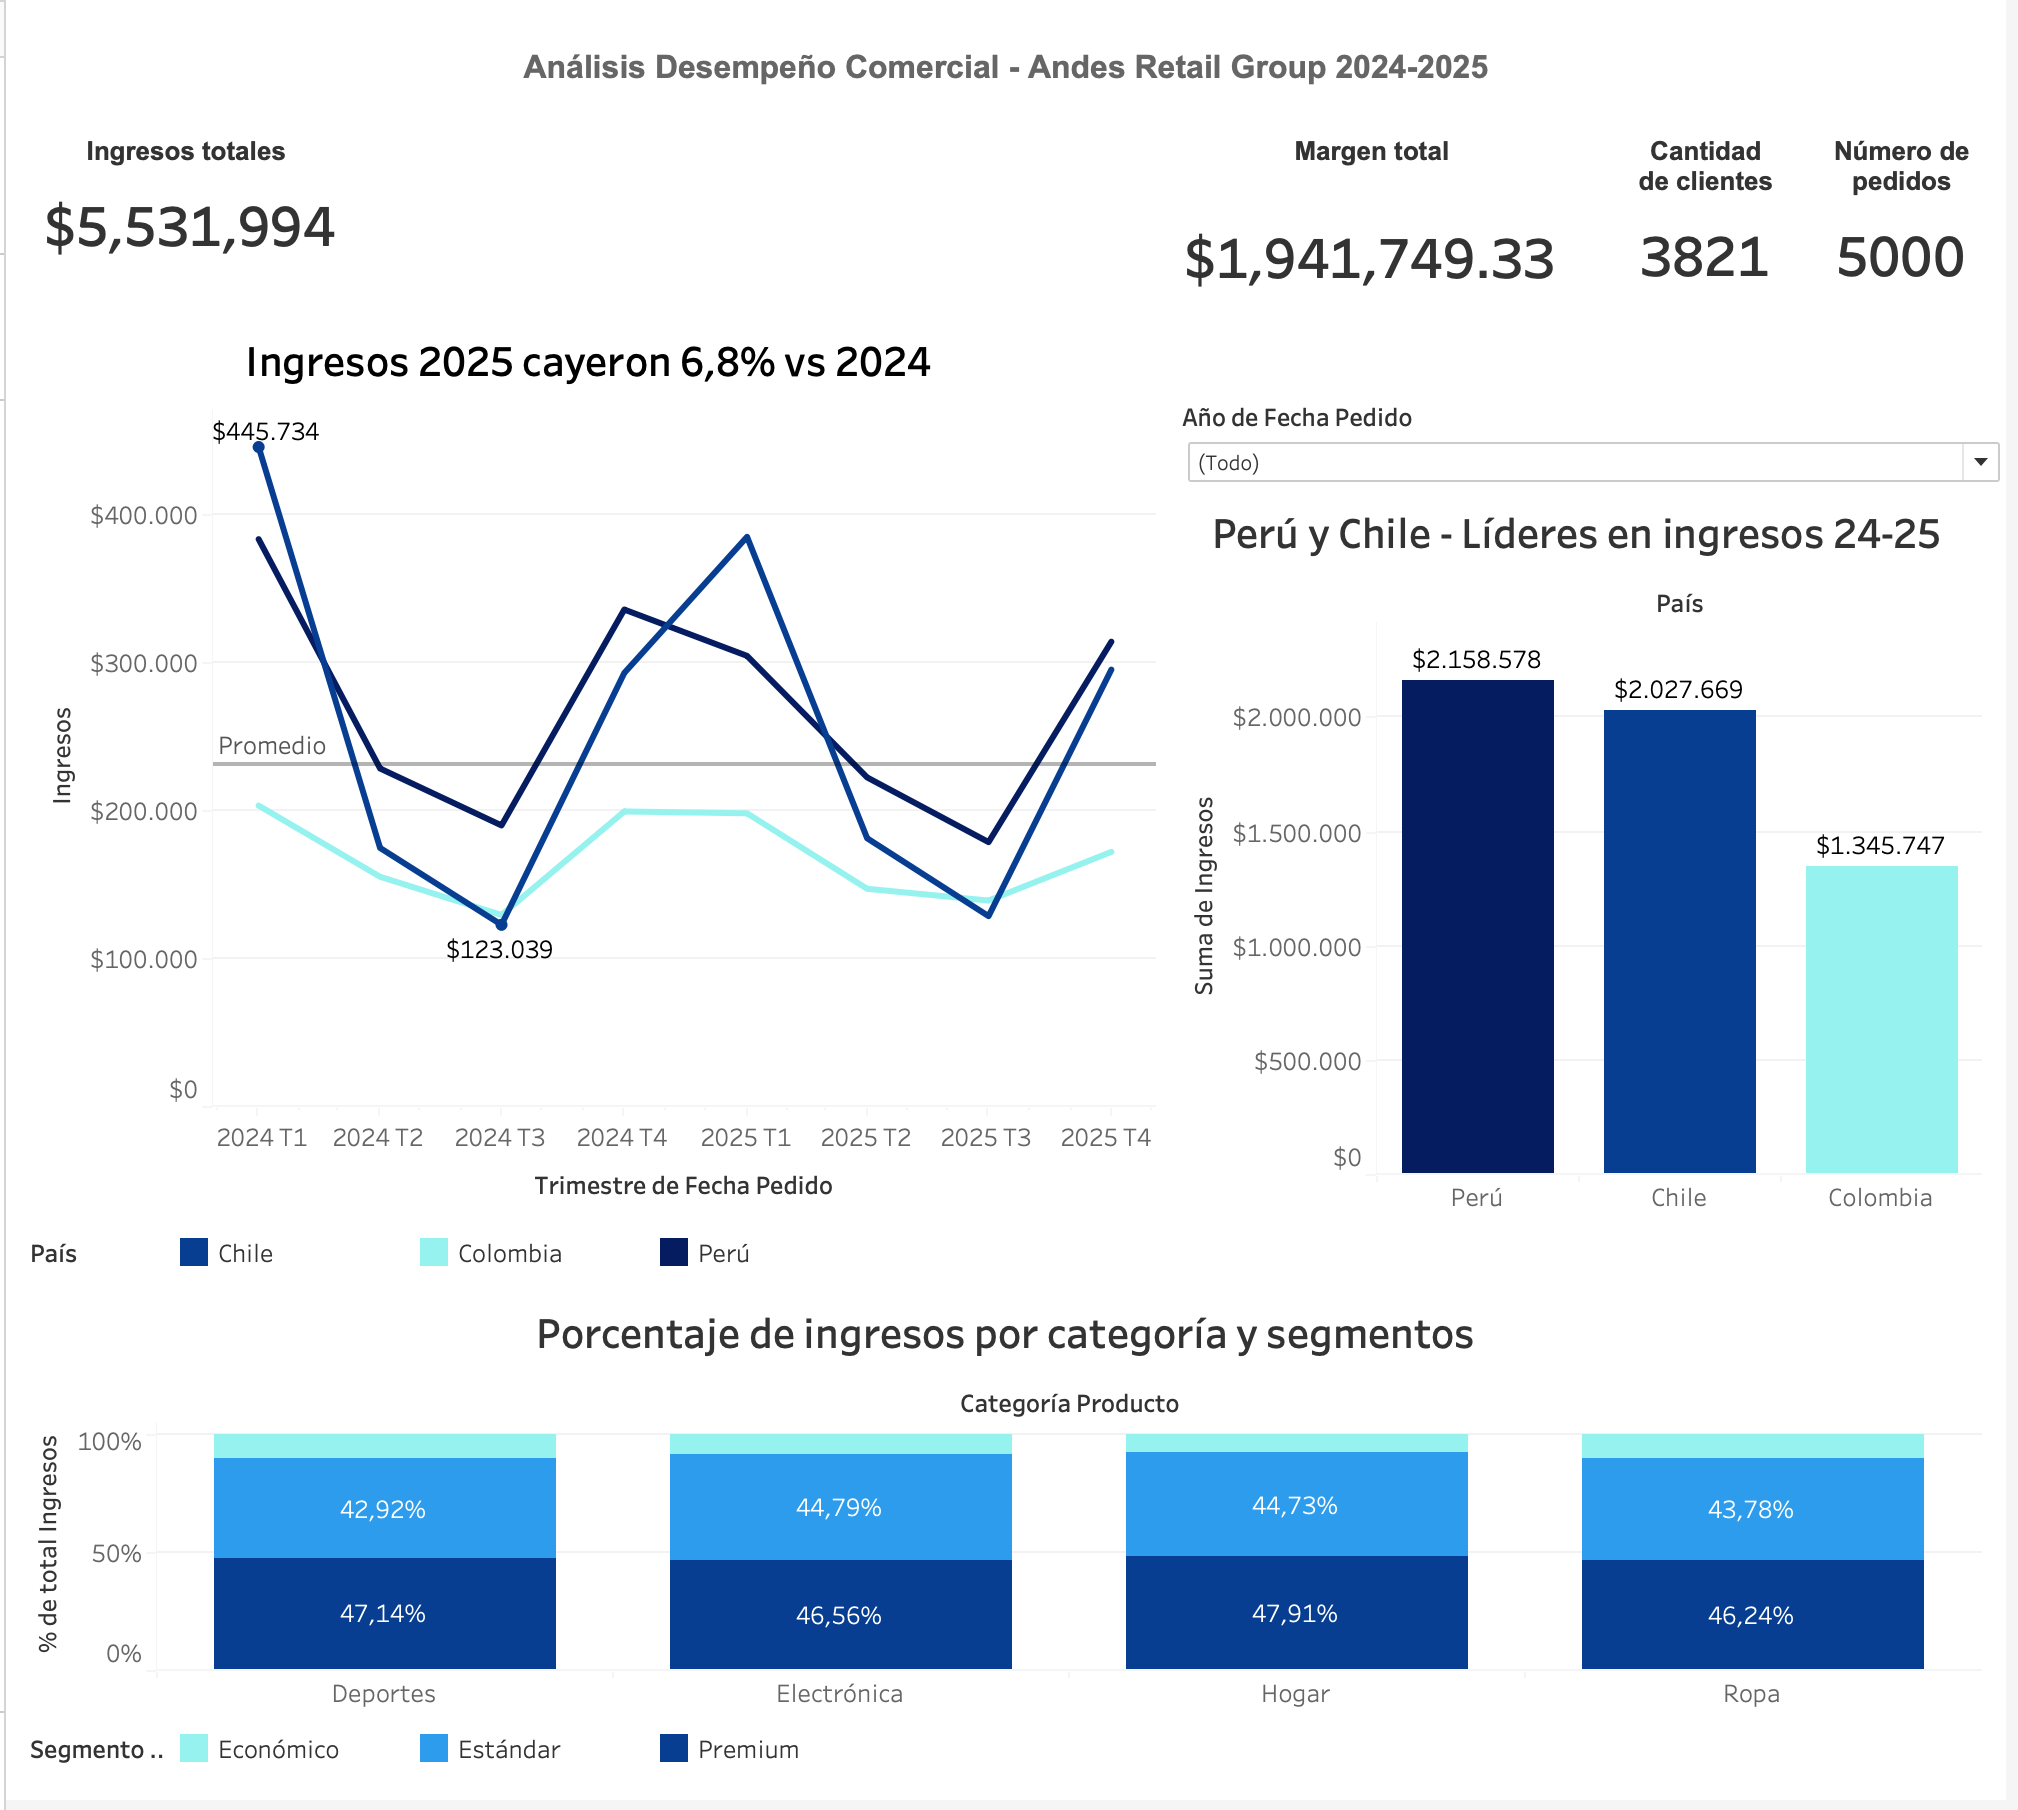

The dashboard page shown, as its layout file describes it:
{"tool":"tableau","page":{"name":"Overview","canvas":[1000,900],"ordinal":0},"visuals":[{"type":"text","box":[8,8,984,52.4]},{"type":"worksheet","title":"KPI Ingresos","mark":"Automatic","box":[8,60.4,571,97.6]},{"type":"worksheet","title":"KPI Margen total","mark":"Automatic","box":[579,60.4,227.1,183.3]},{"type":"worksheet","title":"KPI Clientes","mark":"Automatic","box":[806.1,60.4,98,183.3]},{"type":"worksheet","title":"KPI Pedidos","mark":"Automatic","box":[904.1,60.4,87.9,183.3]},{"type":"worksheet","title":"Gráfico de tiempo","mark":"Automatic","rows":["Ingresos"],"cols":["Fecha_Pedido"],"box":[8,158,571,454]},{"type":"filter","title":"Ingresos por países","param":"[federated.0pt8d6f0jhpu5f15hn6mf12csgsh].[yr:Fecha_Pedido:ok]","box":[587.8,199.9,412.2,55.5]},{"type":"worksheet","title":"Ingresos por países","mark":"Automatic","rows":["Ingresos"],"cols":["País"],"box":[579,243.7,413,368.3]},{"type":"legend","title":"Gráfico de tiempo","param":"[federated.0pt8d6f0jhpu5f15hn6mf12csgsh].[none:País:nk]","box":[8,612,984,32]},{"type":"worksheet","title":"Ingresos por categoría y segmento de cliente","mark":"Automatic","cols":["Categoría_Producto"],"box":[8,644,984,216]},{"type":"legend","title":"Ingresos por categoría y segmento de cliente","param":"[federated.0pt8d6f0jhpu5f15hn6mf12csgsh].[none:Segmento_Cliente:nk]","box":[8,860,984,32]}]}

Visuals, with their boxes in screenshot pixels (x1, y1, x2, y2), scaled from the page's 1000x900 canvas onto the 2018x1810 screenshot:
text: Rect(16, 16, 2002, 121)
"KPI Ingresos" worksheet: Rect(16, 121, 1168, 318)
"KPI Margen total" worksheet: Rect(1168, 121, 1627, 490)
"KPI Clientes" worksheet: Rect(1627, 121, 1824, 490)
"KPI Pedidos" worksheet: Rect(1824, 121, 2002, 490)
"Gráfico de tiempo" worksheet: Rect(16, 318, 1168, 1231)
"Ingresos por países" filter: Rect(1186, 402, 2017, 514)
"Ingresos por países" worksheet: Rect(1168, 490, 2002, 1231)
"Gráfico de tiempo" legend: Rect(16, 1231, 2002, 1295)
"Ingresos por categoría y segmento de cliente" worksheet: Rect(16, 1295, 2002, 1730)
"Ingresos por categoría y segmento de cliente" legend: Rect(16, 1730, 2002, 1794)
